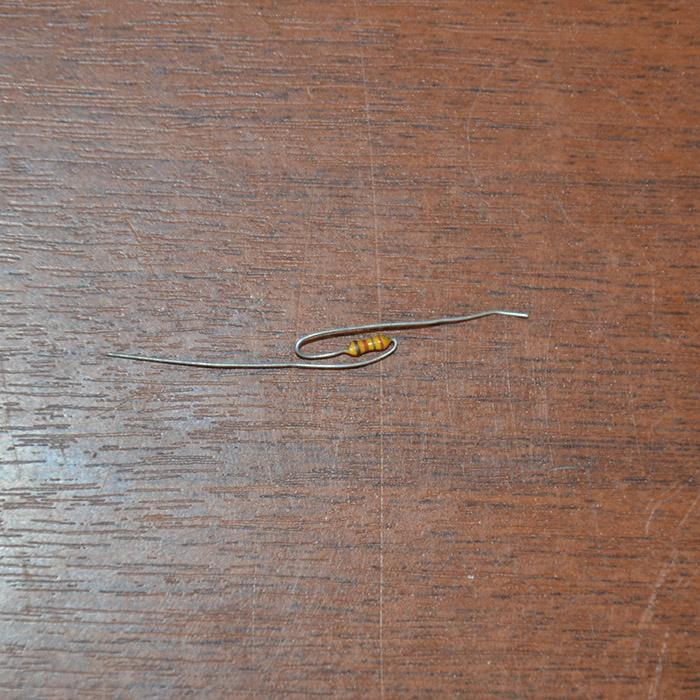resistor: (344, 334, 390, 356)
